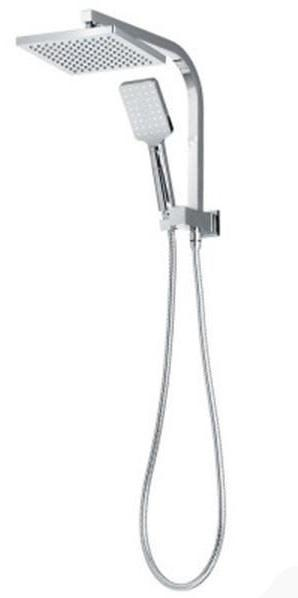Ducha: (11, 6, 253, 597)
